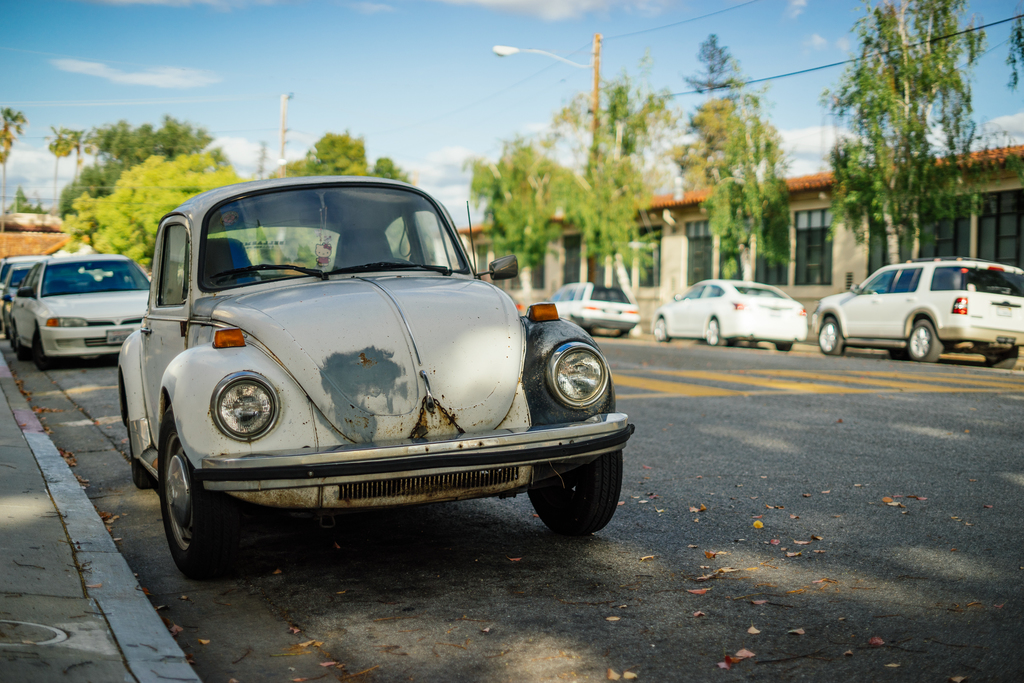Car: (113, 169, 623, 575), (815, 260, 1023, 367), (0, 251, 151, 361), (645, 277, 806, 347), (545, 283, 637, 328)
